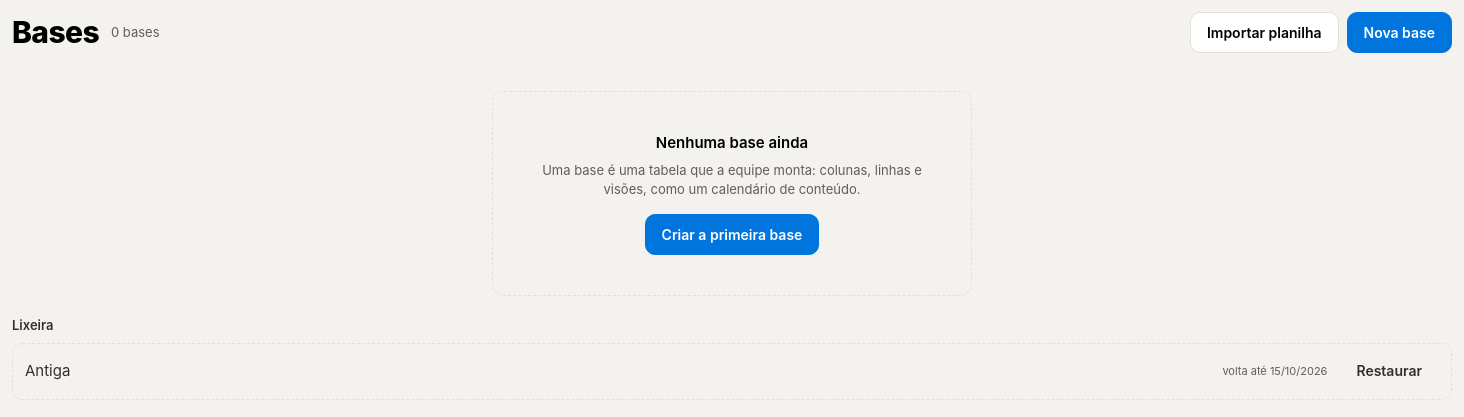
Test case: ListaDeBases › a lixeira restaura e a base volta para a lista
The image size is (1464, 417).
Expected: the text "volta até 15/10/2026" is shown, [1222, 364, 1327, 379]
Click the button "Restaurar". click: (1389, 371)
box: [1339, 352, 1439, 391]
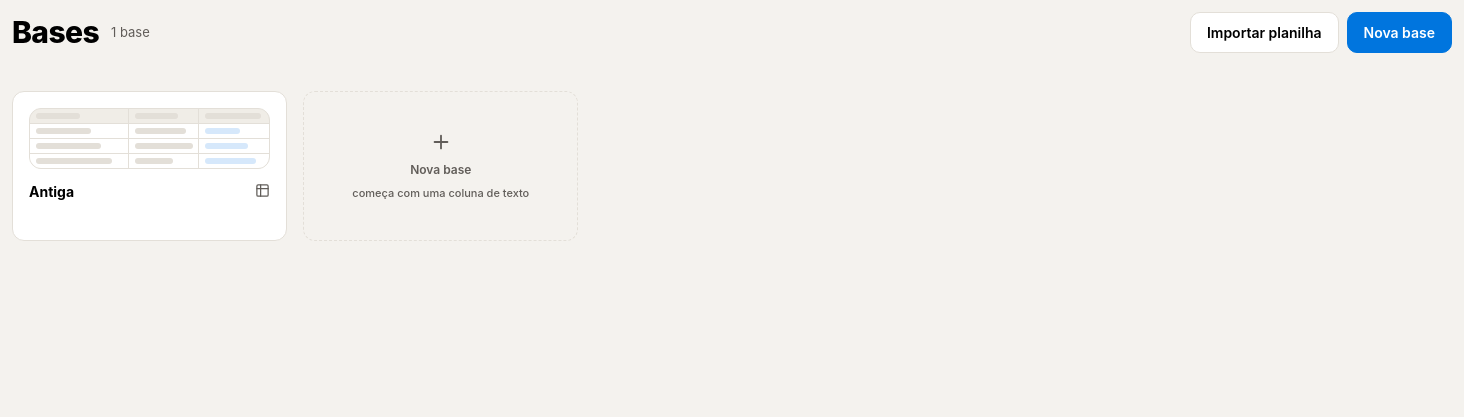
Expected: the link "Antiga" is shown, [12, 91, 287, 241]
Now the heading "Lixeira" is gone
